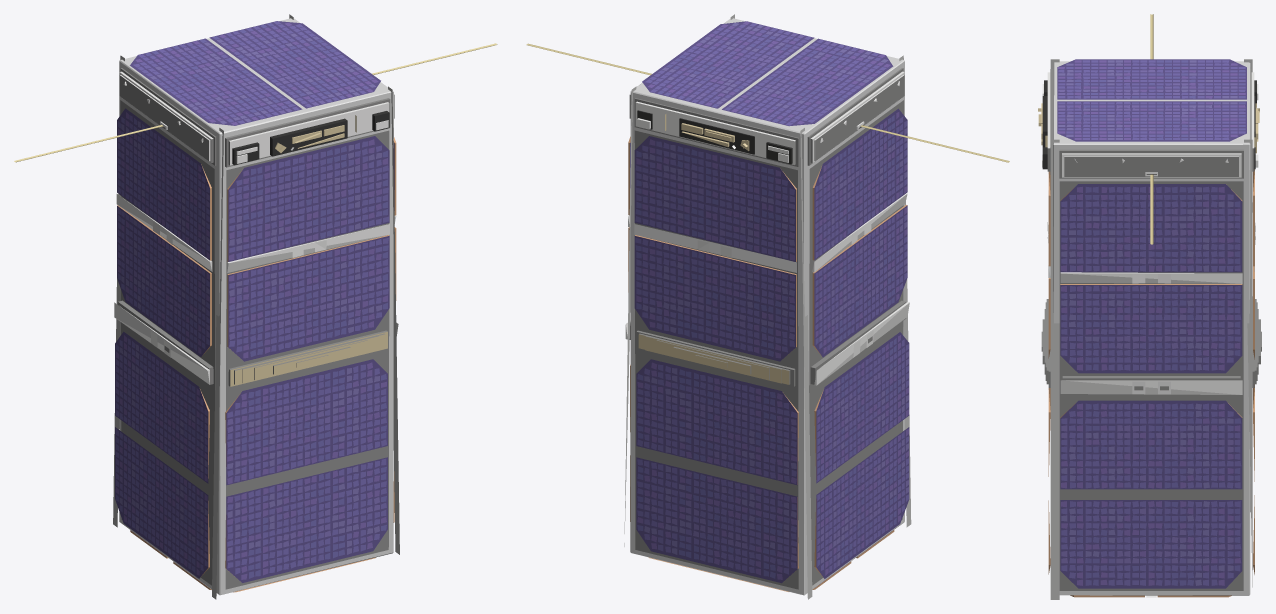
File: cubesat.glb
3 renders of one model, left to right at view 1: azimuth 30°, elevation 25°; view 2: azimuth 150°, elevation 25°; view 3: azimuth 270°, elevation 25°, orthographic. The views are drawn at different scales.
Visible parts, largest first — view 1: Layer_0; view 2: Layer_0; view 3: Layer_0.
Part boxes in pixels (x1,y1,x2,y2): Layer_0: (14,14,497,599); Layer_0: (526,14,1009,599); Layer_0: (1038,14,1261,599).
Size of the model in its own units: 5.39 by 5 by 2.21.
